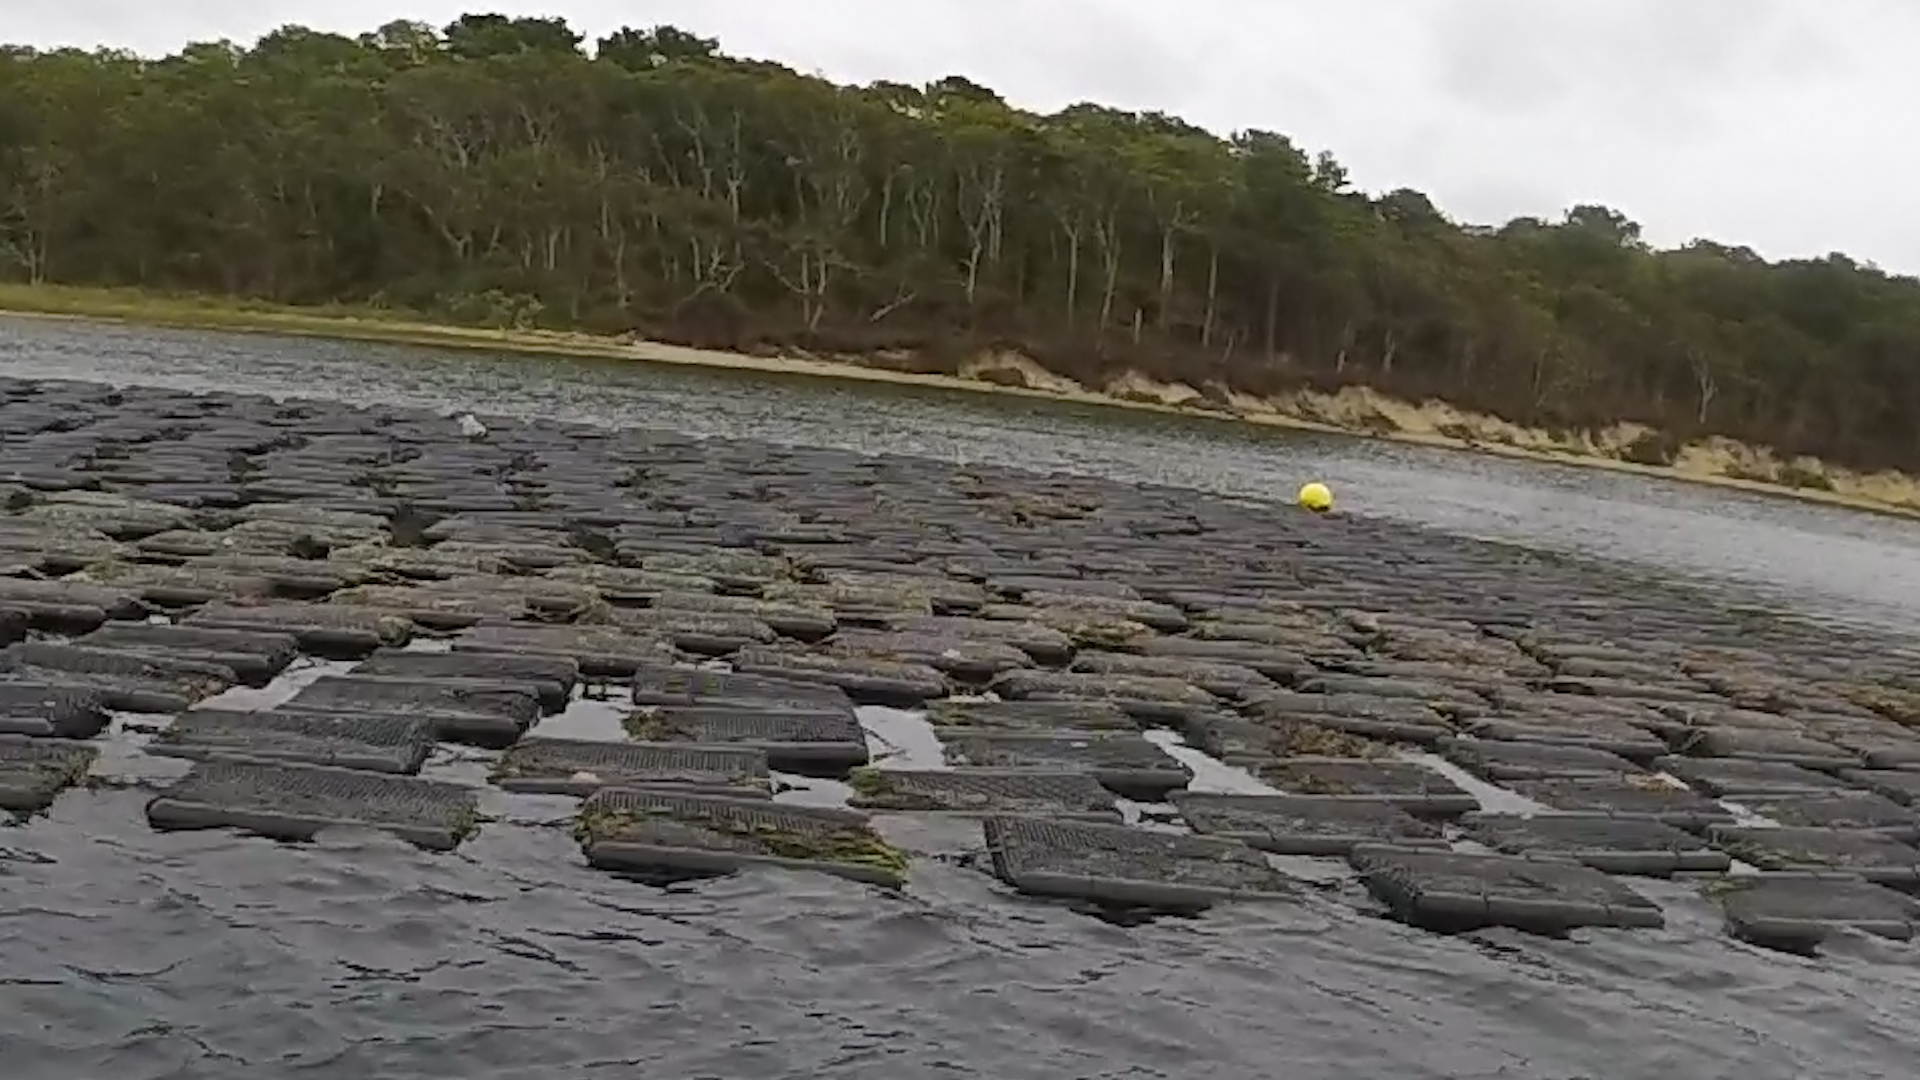bag: (574, 786, 906, 897), (976, 814, 1303, 916)
